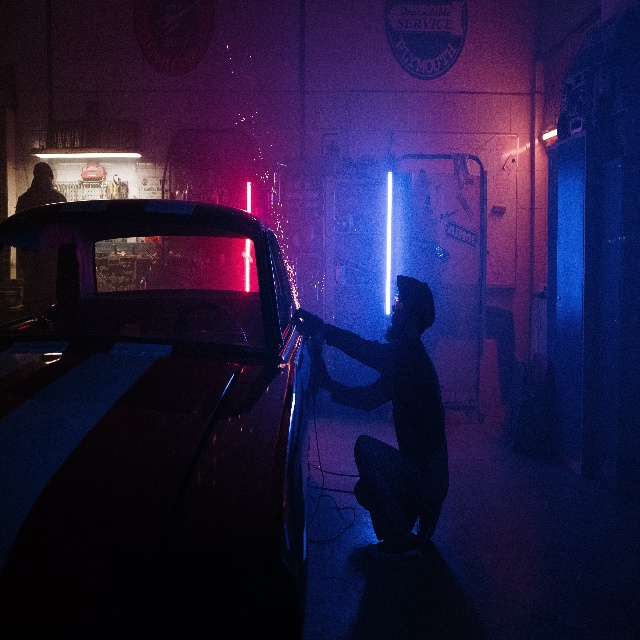Gafas: (393, 292, 406, 311)
Guantes: (292, 306, 325, 338)
